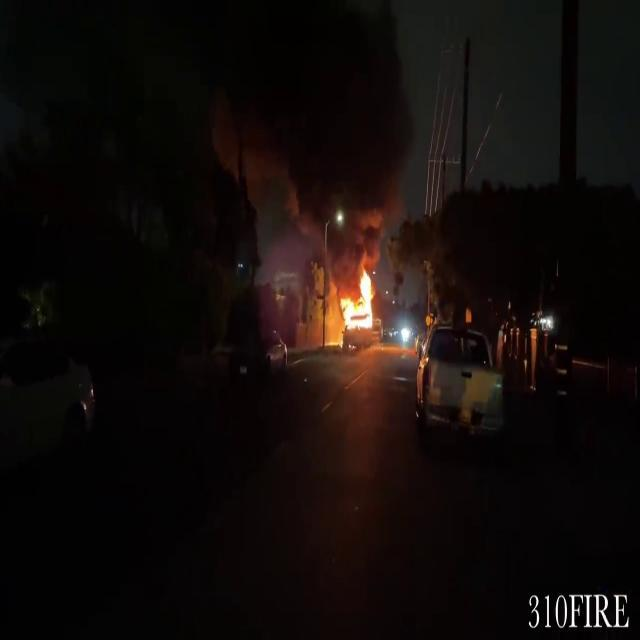Fire: (329, 264, 381, 338)
